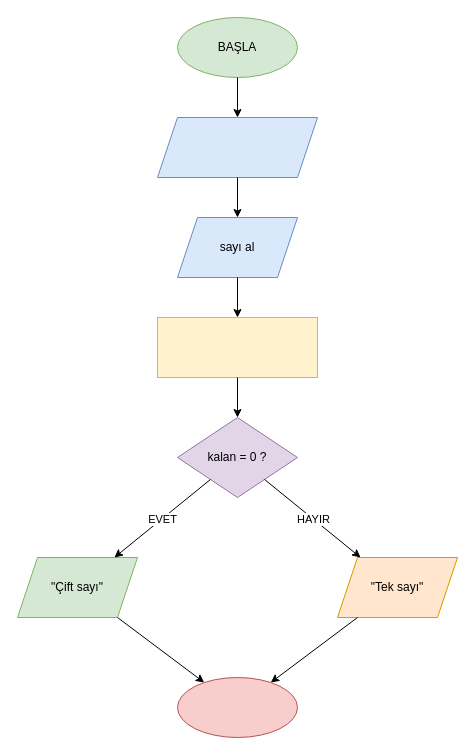
Image size: 475x755. Some labels were removed from this diagram. Here are the shapes that lost their labels. From the top down, the box of each, then its label:
(156, 116, 318, 178): "Bir sayı girin"
(156, 316, 318, 378): kalan ← sayı % 2
(176, 676, 298, 738): BITIR
